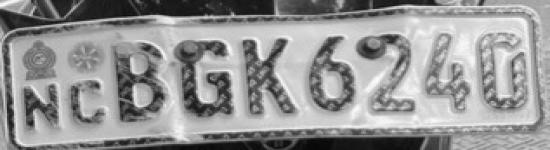0: (475, 26, 534, 116)
2: (361, 26, 421, 121)
4: (419, 25, 477, 117)
6: (304, 32, 361, 115)
B: (110, 35, 171, 126)
C: (68, 74, 111, 129)
G: (174, 29, 238, 123)
K: (240, 32, 305, 124)
N: (21, 79, 64, 133)
